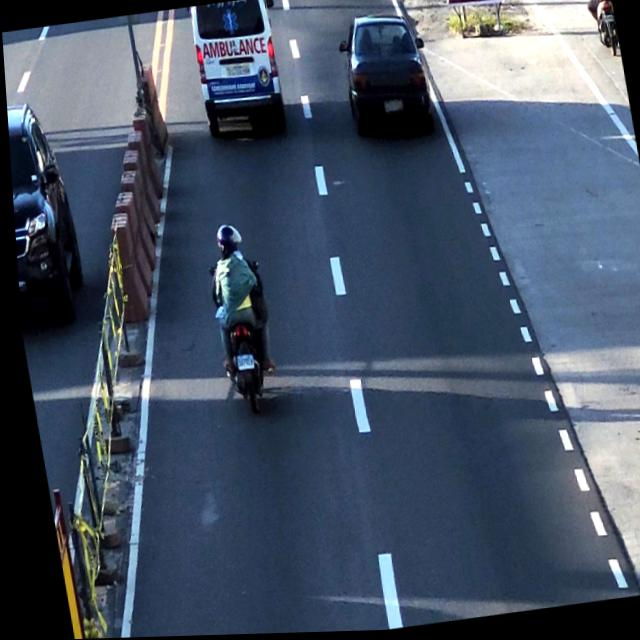Car: (178, 0, 286, 138), (335, 15, 434, 138)
License-Plate: (219, 56, 252, 81), (380, 98, 406, 119), (228, 353, 252, 373)
Motorcycle: (193, 219, 281, 423)
